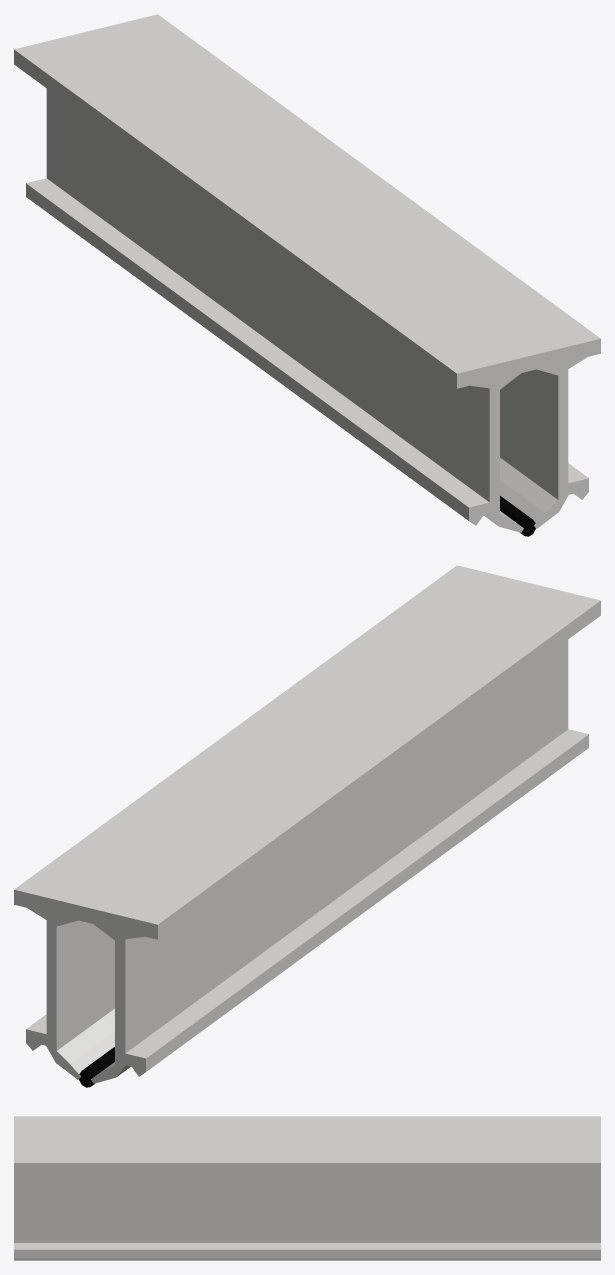
File: crpl.obj
3 views of the same model, one above another, from view 1: azimuth 30°, elevation 25°; view 2: azimuth 150°, elevation 25°; view 3: azimuth 270°, elevation 25° (orthographic). The views are drawn at different scales.
Parts seen in each view (by area): view 1: 1.003; view 2: 1.003; view 3: 1.003.
Boxes of the visible parts, x1=… form: 1.003: x1=14, y1=14, x2=600, y2=536; 1.003: x1=14, y1=565, x2=600, y2=1087; 1.003: x1=14, y1=1116, x2=600, y2=1260.
Size of the model in its own units: 0.1875 by 0.225 by 1.
Materials: 3 (3 with a texture image).
